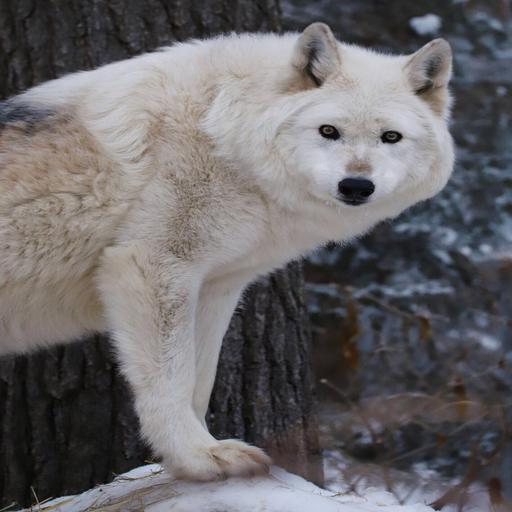Wolf: (0, 21, 466, 482)
